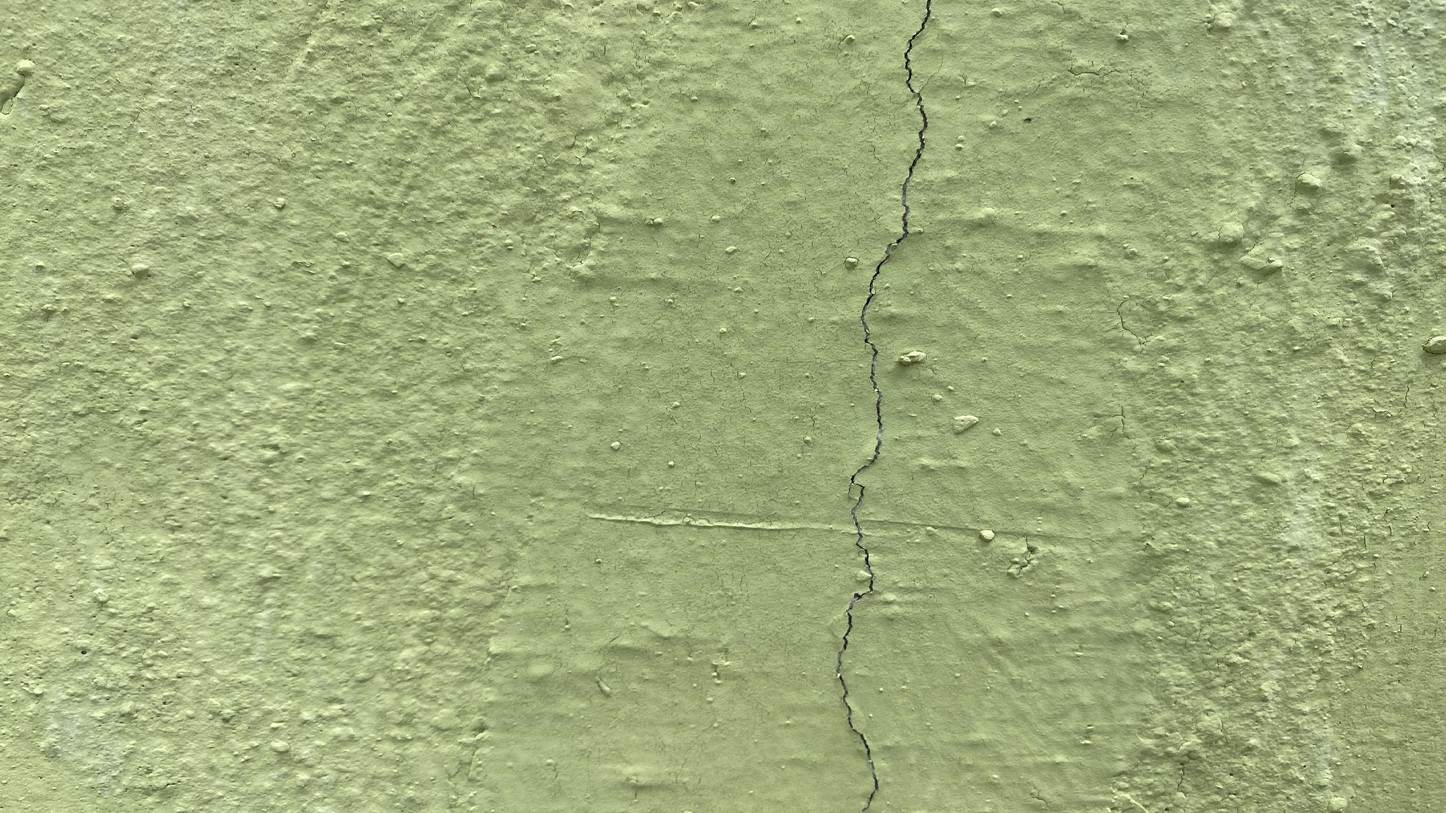crack: (836, 1, 931, 811)
